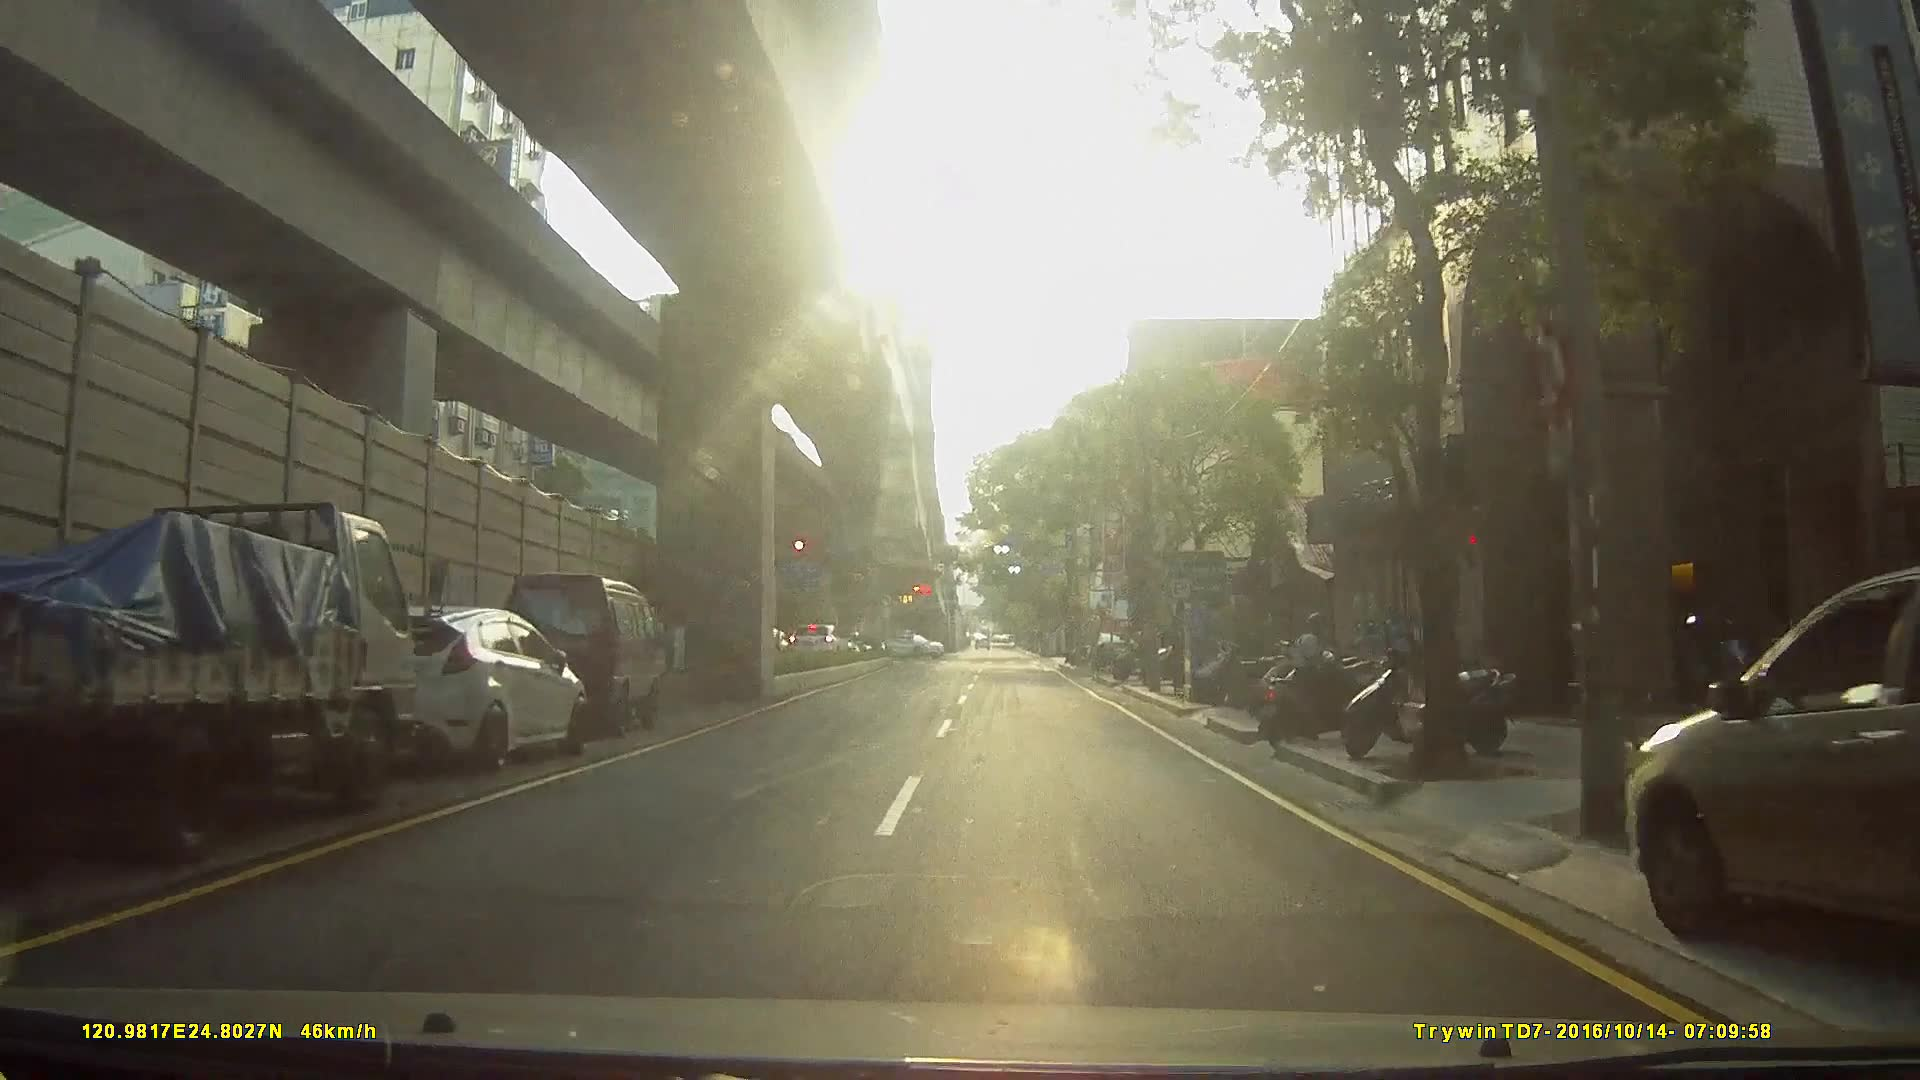rider: (1256, 608, 1386, 742)
vehicle: (7, 482, 465, 845), (1631, 560, 1920, 985), (316, 593, 592, 775), (488, 567, 668, 737), (784, 620, 849, 661), (1082, 632, 1129, 671), (879, 633, 942, 660)
